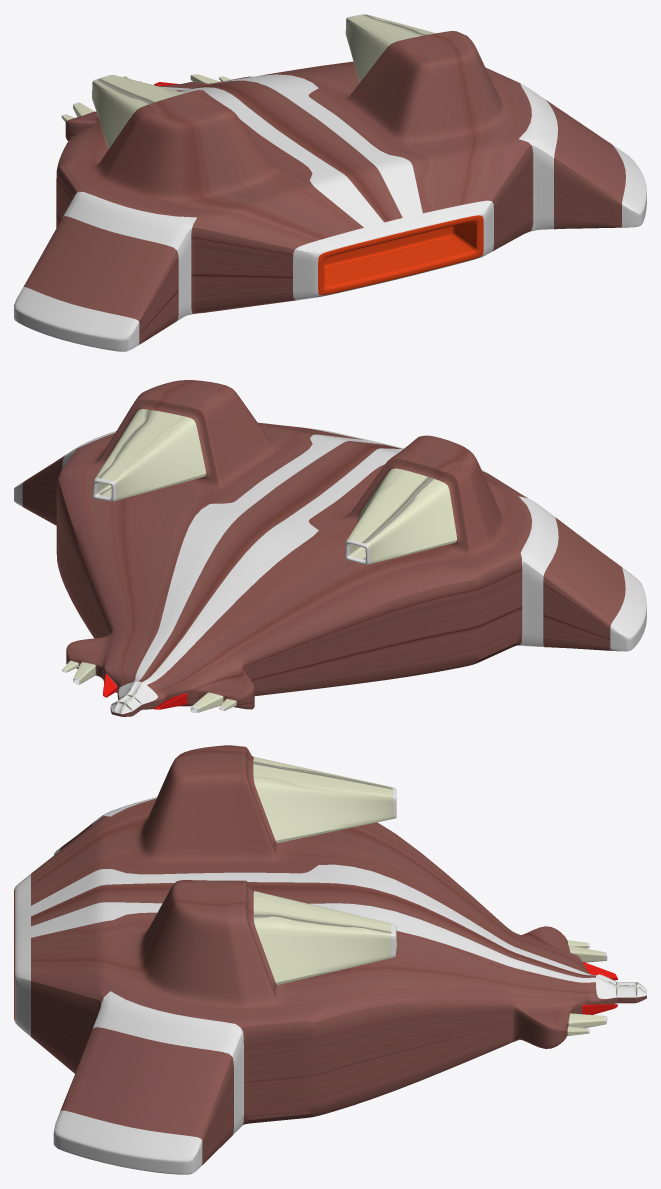
The model's file is Новый корабль-текстурированный.fbx.
3 renders of one model, top to bottom at view 1: azimuth 30°, elevation 25°; view 2: azimuth 150°, elevation 25°; view 3: azimuth 270°, elevation 25°, orthographic. The views are drawn at different scales.
Parts seen in each view (by area): view 1: Cube; view 2: Cube; view 3: Cube.
Part boxes in pixels (<box>): Cube: <box>14,14,646,351</box>; Cube: <box>14,380,646,716</box>; Cube: <box>14,745,646,1174</box>.
Size of the model in its own units: 1336 by 340 by 1066.
Materials: 7 (2 with a texture image).
